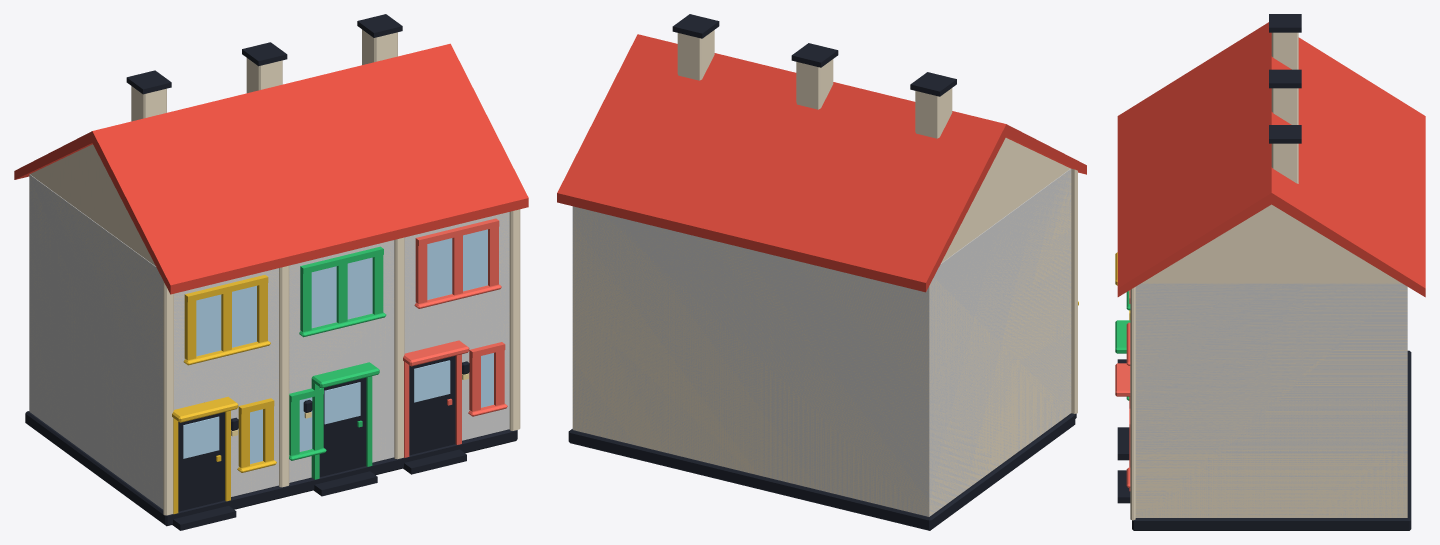
The model's file is terrace-houses.glb.
3 views of the same model, side by side, from view 1: azimuth 30°, elevation 25°; view 2: azimuth 150°, elevation 25°; view 3: azimuth 270°, elevation 25° (orthographic). The views are drawn at different scales.
Visible parts, largest first — view 1: terrace-houses, COL_body; view 2: terrace-houses, COL_body; view 3: terrace-houses, COL_body.
Boxes of the visible parts, x1,y1,x2,y2 form: terrace-houses: [14, 14, 528, 530]; COL_body: [29, 174, 509, 509]; terrace-houses: [557, 14, 1086, 530]; COL_body: [572, 168, 1071, 516]; terrace-houses: [1115, 14, 1425, 530]; COL_body: [1135, 283, 1407, 517].
Size of the model in its own units: 9 by 9.02 by 6.85.
